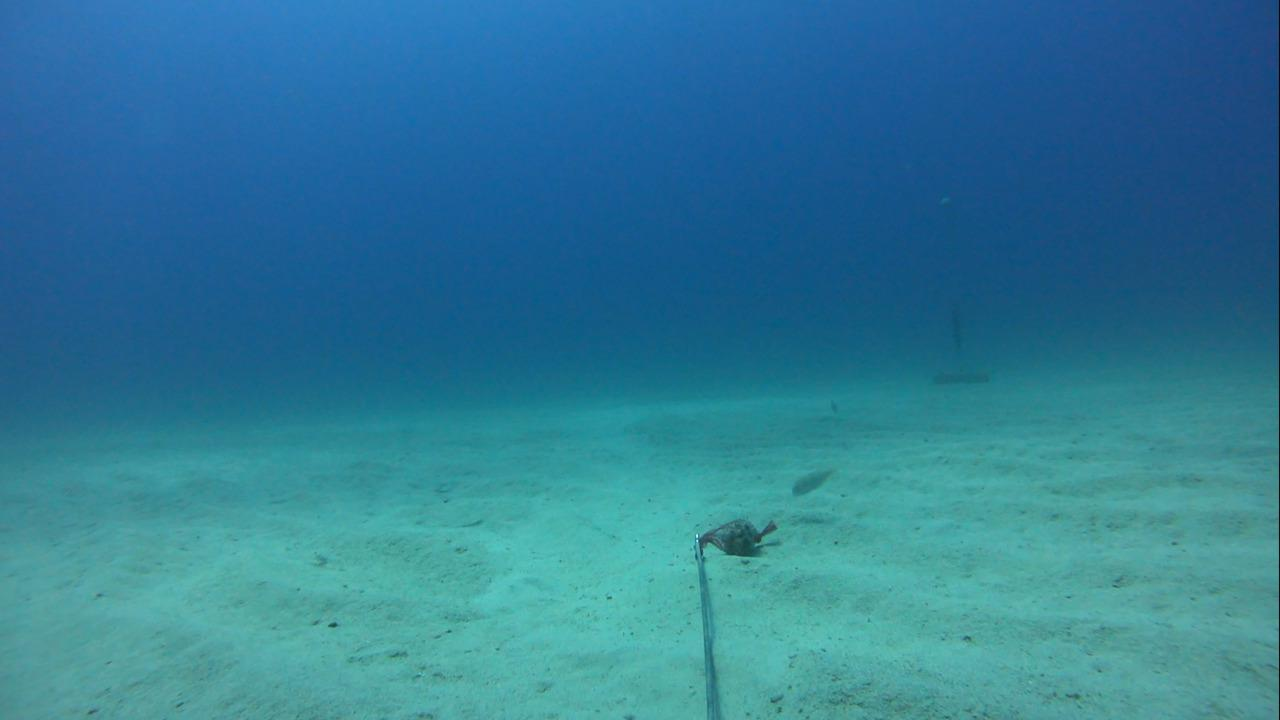raor: (777, 458, 839, 503)
